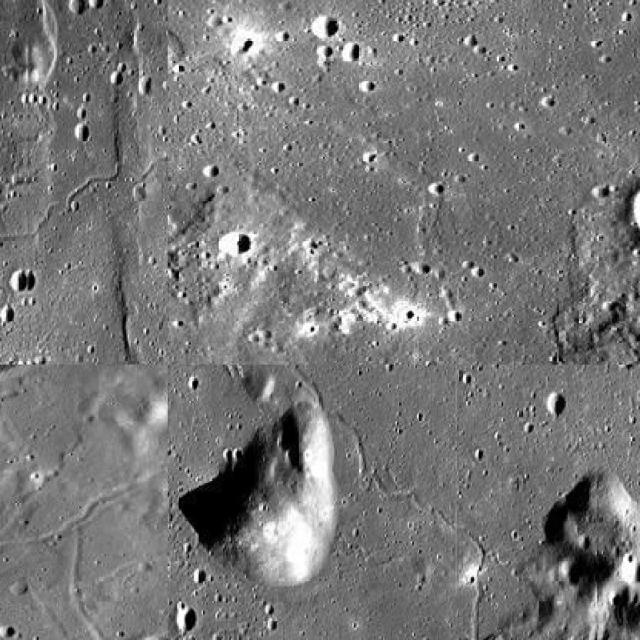crater: (169, 364, 534, 638), (169, 0, 445, 257), (2, 129, 122, 334), (2, 364, 42, 638), (129, 74, 168, 189)
